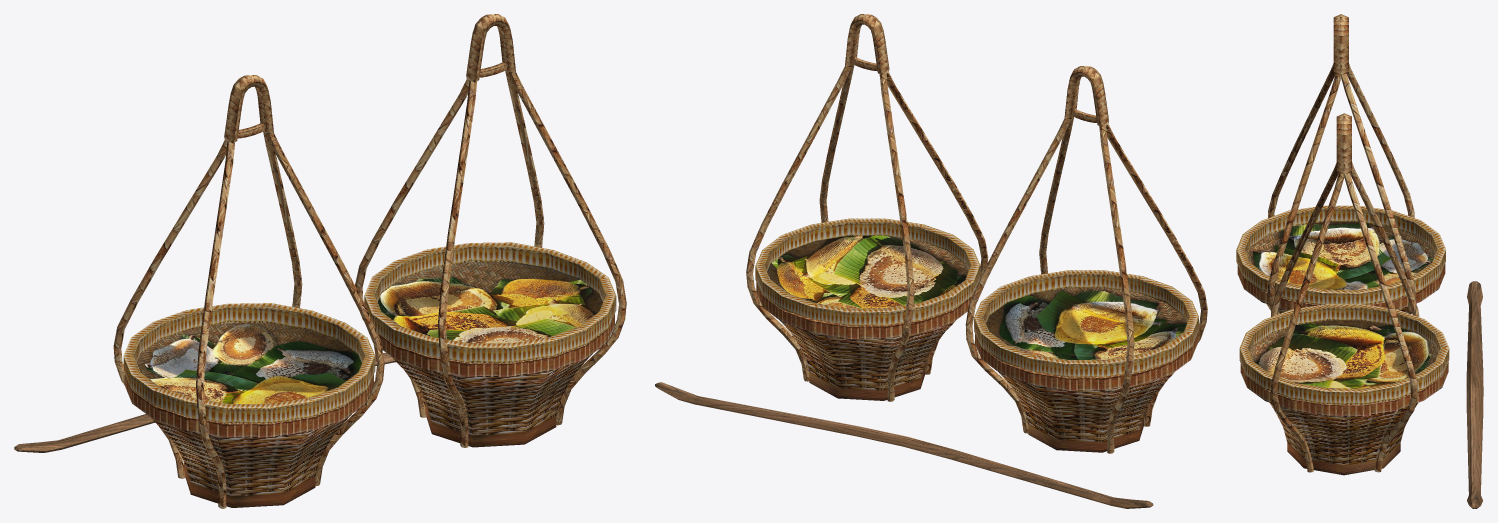
The model's file is th_vendor.glb.
3 renders of one model, left to right at view 1: azimuth 30°, elevation 25°; view 2: azimuth 150°, elevation 25°; view 3: azimuth 270°, elevation 25°, orthographic. The views are drawn at different scales.
Parts seen in each view (by area): view 1: basket, honey1, honey2; view 2: basket, honey1, honey2; view 3: basket, honey1, honey2.
Part boxes in pixels (bbox=[...]): basket: bbox=[14, 14, 626, 508]; honey1: bbox=[378, 262, 602, 343]; honey2: bbox=[137, 322, 361, 403]; basket: bbox=[655, 14, 1207, 508]; honey1: bbox=[767, 235, 968, 308]; honey2: bbox=[986, 287, 1186, 359]; basket: bbox=[1236, 14, 1483, 508]; honey1: bbox=[1250, 320, 1437, 388]; honey2: bbox=[1247, 221, 1434, 289].
Size of the model in its own units: 1.82 by 1.27 by 0.8395.
3 materials, 3 textured.
